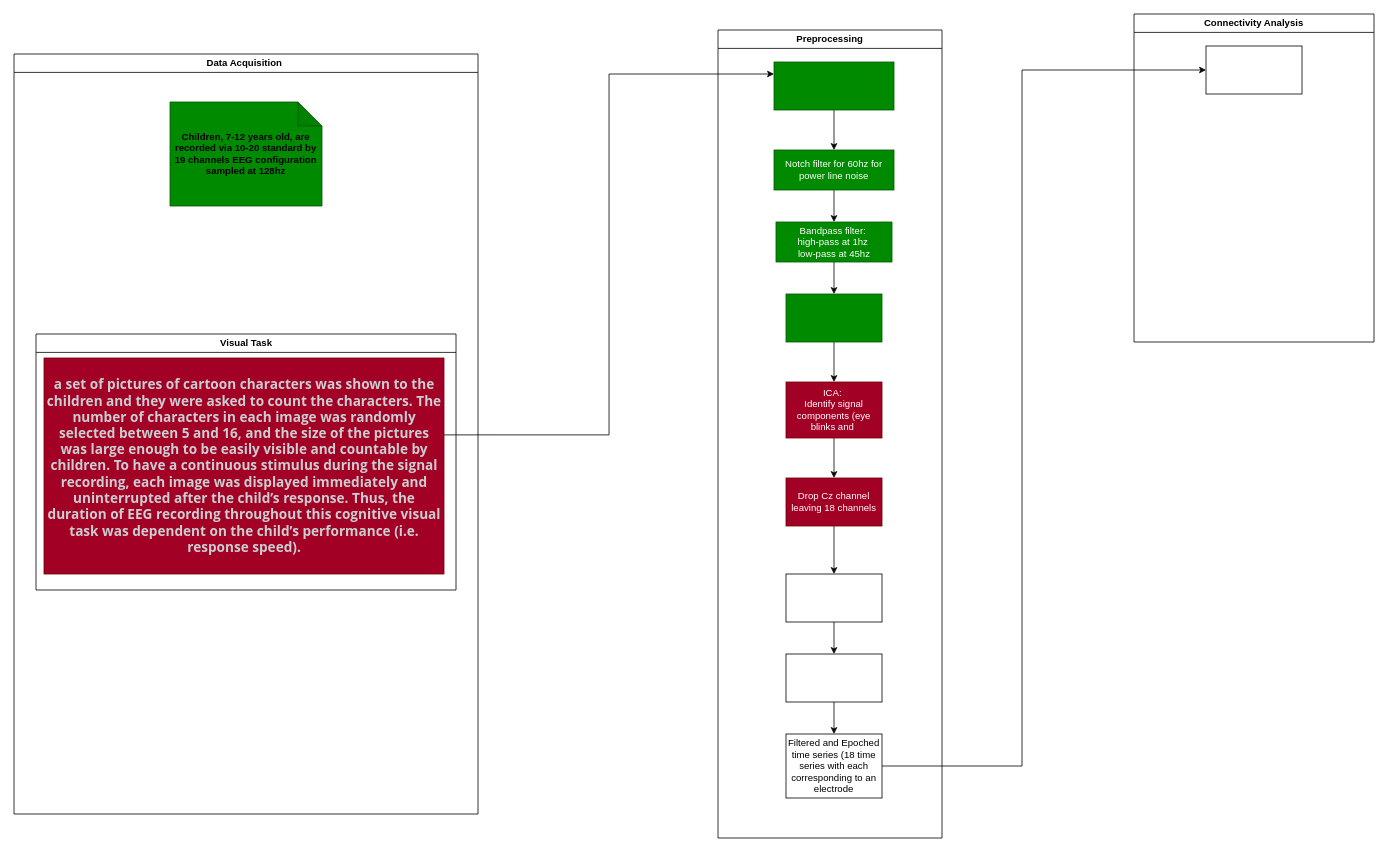
Some shapes in this 1388 by 852 pixel diagram are drawn without their labels. Each missing label, with the centre of its shape:
"AutoReject: corrupted epochs dropped/repaired" goes at point (833, 677).
"Compute Connectivity matrices" goes at point (1253, 69).
"Convert to Standard 10-20 mapping" goes at point (833, 85).
"Epoched: sliced into 2-second non-overlapping epochs" goes at point (833, 597).
"RANSAC algorithm: detects bad channels" goes at point (833, 317).
